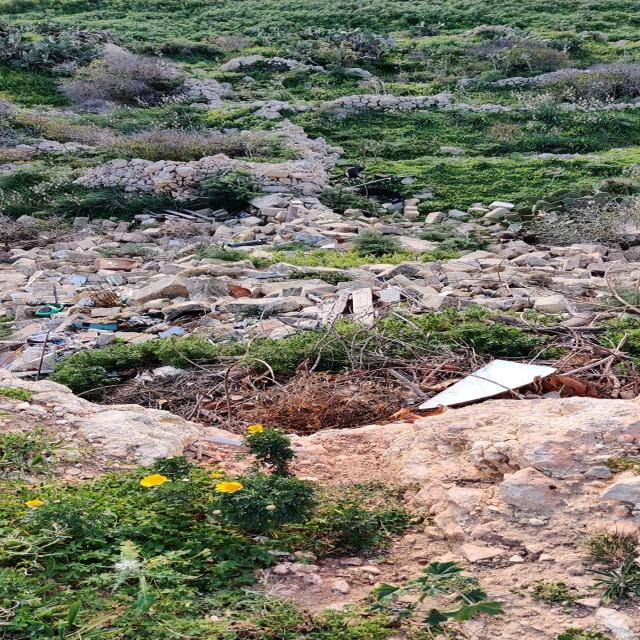Other litter: (96, 256, 143, 271), (226, 288, 252, 297)
Other plastic: (27, 304, 66, 316), (226, 238, 262, 247), (73, 323, 124, 329)
Styrofoam piece: (414, 357, 557, 411)
